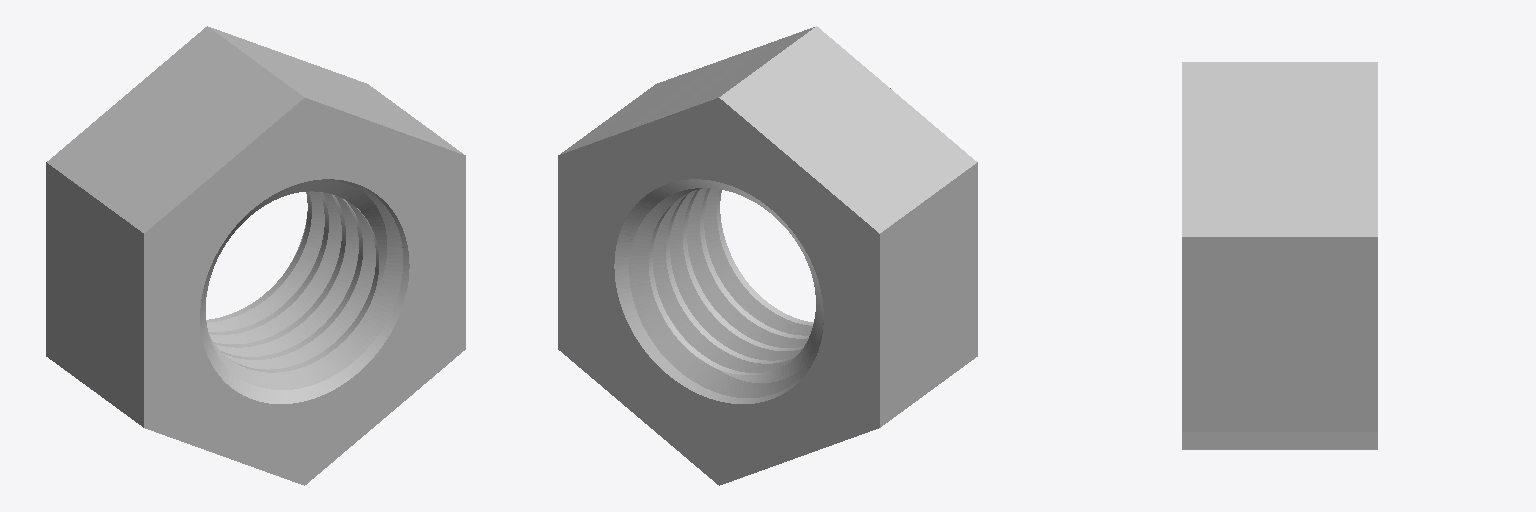
The model's file is factory_nut_m12_tight_subdiv_3x.obj.
3 renders of one model, left to right at view 1: azimuth 30°, elevation 25°; view 2: azimuth 150°, elevation 25°; view 3: azimuth 270°, elevation 25°, orthographic.
Parts seen in each view (by area): view 1: mesh5, mesh9, mesh10, mesh1, mesh3, mesh8, mesh2; view 2: mesh6, mesh9, mesh10, mesh0, mesh4, mesh8, mesh2; view 3: mesh7, mesh8, mesh12.
Boxes of the visible parts, x1,y1,x2,y2 form: mesh5: [144, 98, 465, 485]; mesh9: [47, 26, 304, 233]; mesh10: [46, 162, 143, 427]; mesh1: [207, 179, 402, 389]; mesh3: [200, 179, 409, 403]; mesh8: [209, 27, 463, 154]; mesh2: [206, 192, 378, 372]; mesh6: [558, 98, 879, 485]; mesh9: [719, 26, 976, 233]; mesh10: [880, 162, 977, 427]; mesh0: [629, 188, 823, 397]; mesh4: [614, 179, 823, 403]; mesh8: [560, 27, 814, 154]; mesh2: [649, 188, 813, 374]; mesh7: [1182, 237, 1377, 431]; mesh8: [1182, 62, 1377, 236]; mesh12: [1182, 432, 1377, 449].
Bounding box in the file's own units: 0.019 × 0.0219 × 0.01.